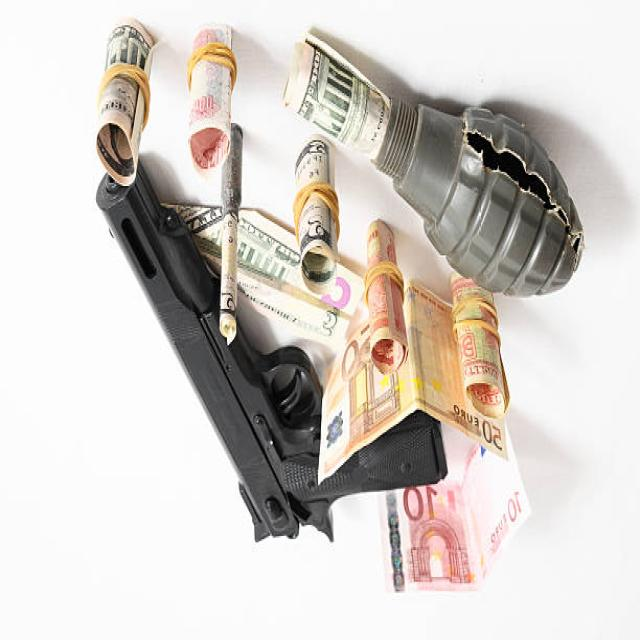grenade: (380, 92, 585, 304)
